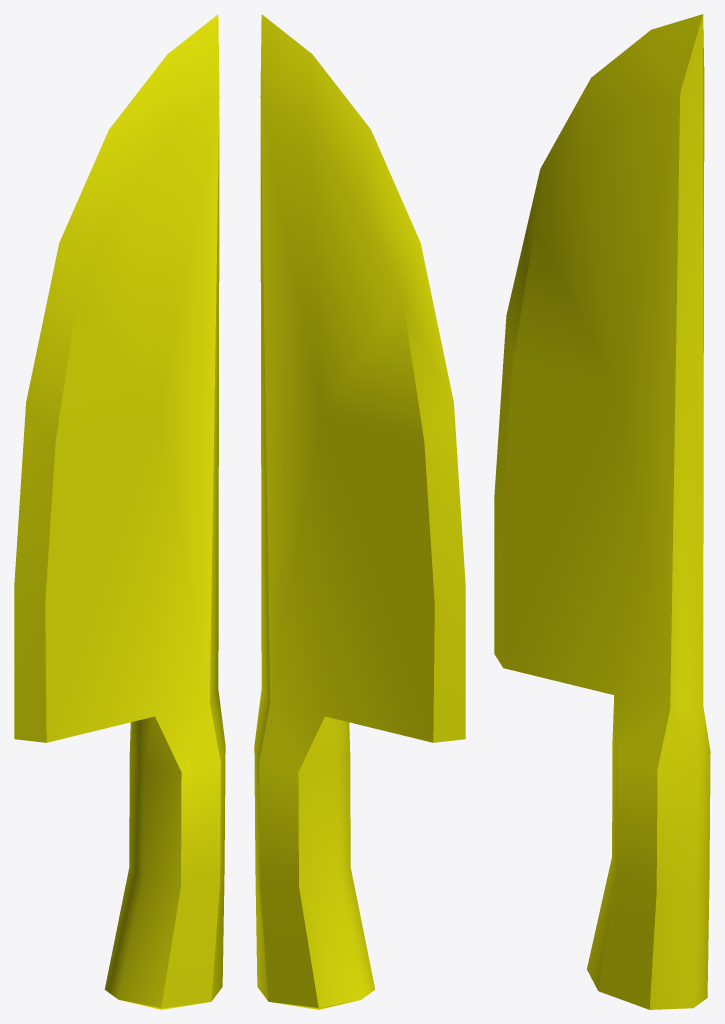
Rendered from knife.gltf.
The picture shows the model from 3 angles, left to right: view 1: azimuth 30°, elevation 25°; view 2: azimuth 150°, elevation 25°; view 3: azimuth 330°, elevation 25°; orthographic projection. The views are drawn at different scales.
Visible parts, largest first — view 1: knife; view 2: knife; view 3: knife.
Part boxes in pixels (<box>): knife: <box>14,14,225,1009</box>; knife: <box>254,14,465,1009</box>; knife: <box>494,14,710,1009</box>.
Bounding box in the file's own units: 0.25 × 1.15 × 0.1.
1 material, 1 textured.
